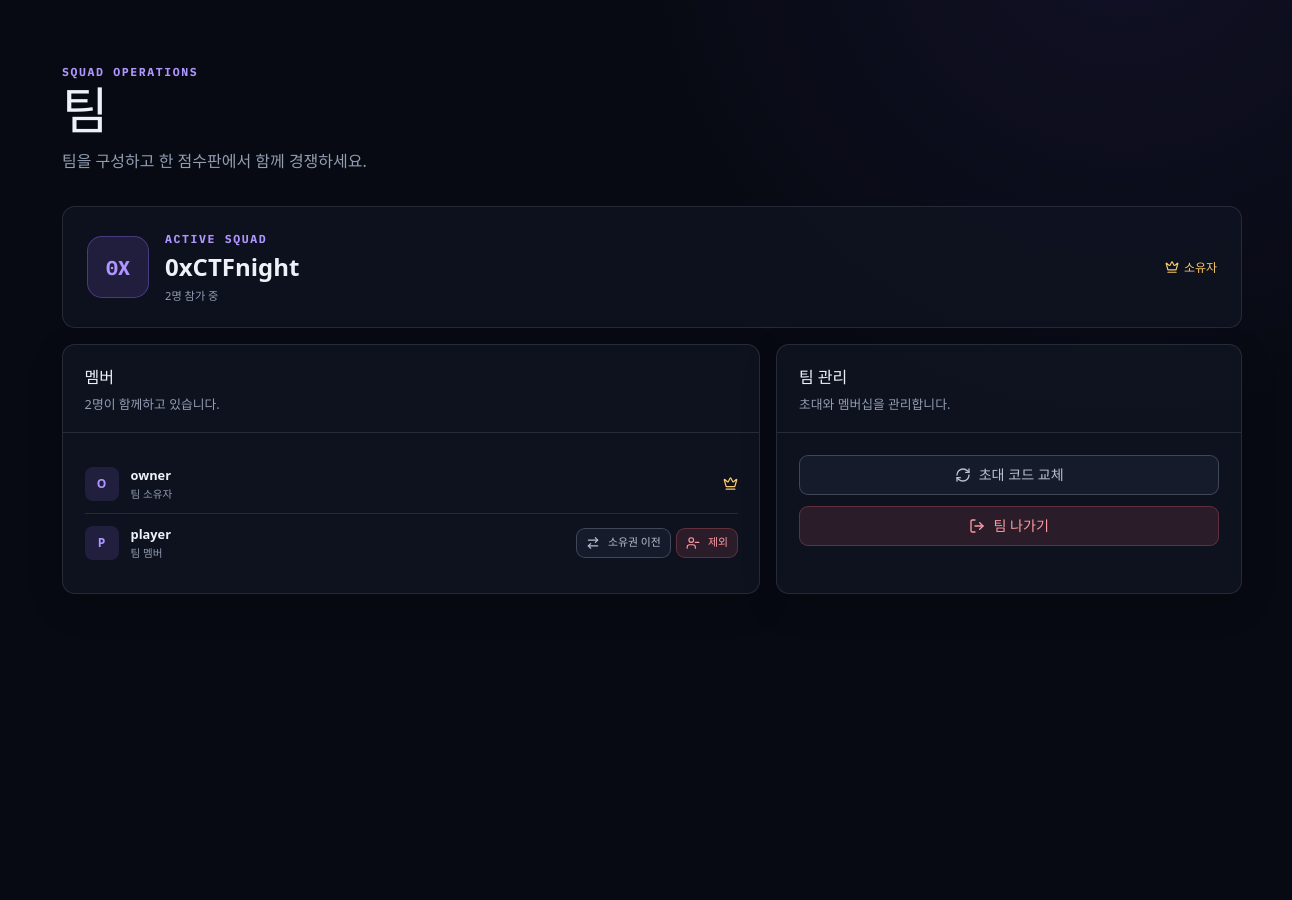
Test case: team member management › requires confirmation, transfers ownership, and refreshes auth and team state
Step 1. Click the button with aria-label "player에게 소유권 이전" → x=623, y=542, box [576,528,671,558]
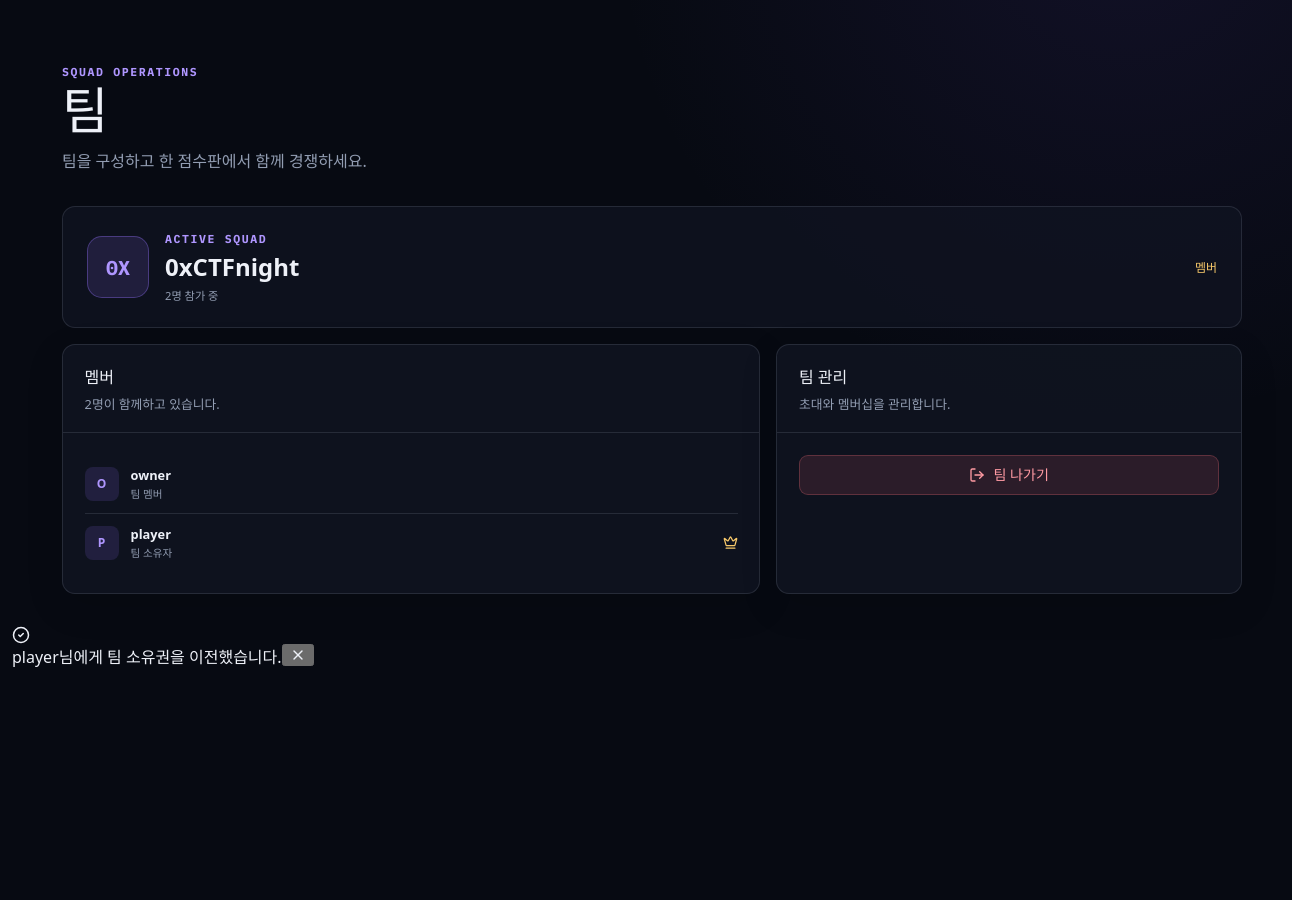
Now the text "player님에게 팀 소유권을 이전했습니다." is shown, box [12,646,282,668]
